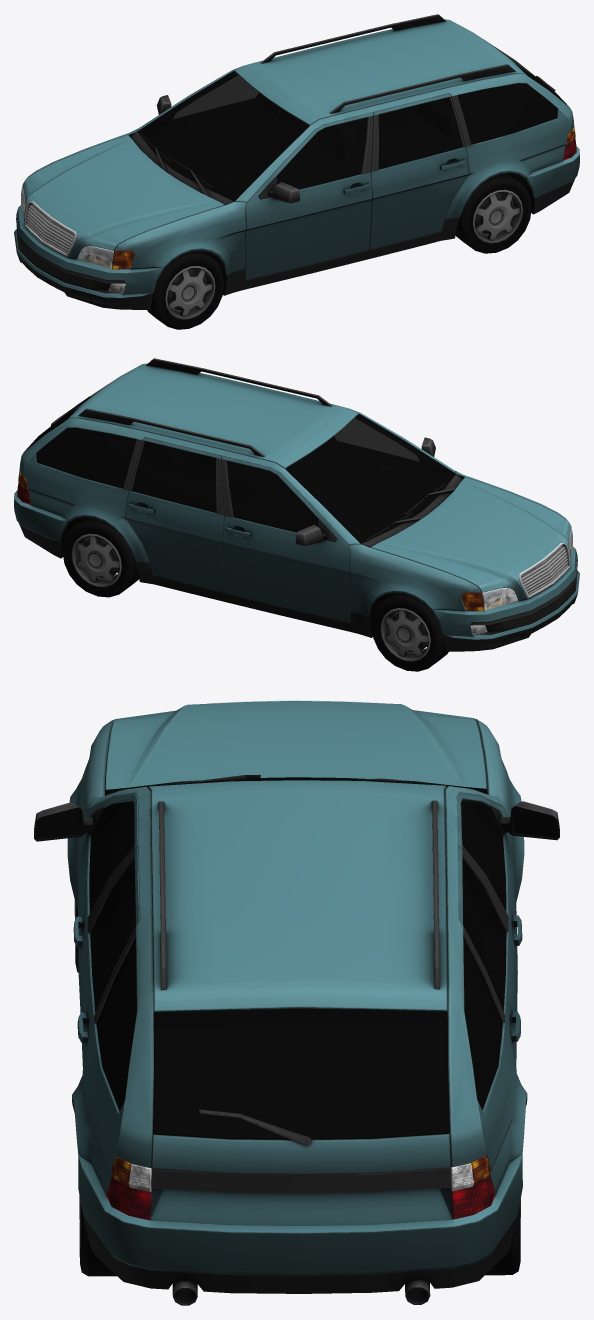
Rendered from limo.glb.
3 renders of one model, top to bottom at view 1: azimuth 30°, elevation 25°; view 2: azimuth 150°, elevation 25°; view 3: azimuth 270°, elevation 25°, orthographic. The views are drawn at different scales.
Parts seen in each view (by area): view 1: Wagon Body, Wheel_A001_Wheel_0.001, Wheel_A_Wheel_0.001; view 2: Wagon Body, Wheel_A003_Wheel_0.001, Wheel_A002_Wheel_0.001; view 3: Wagon Body, Wheel_A001_Wheel_0.001, Wheel_A003_Wheel_0.001.
Boxes of the visible parts, bbox=[...] form: Wagon Body: bbox=[14, 14, 579, 309]; Wheel_A001_Wheel_0.001: bbox=[455, 173, 531, 253]; Wheel_A_Wheel_0.001: bbox=[147, 250, 224, 329]; Wagon Body: bbox=[14, 358, 579, 651]; Wheel_A003_Wheel_0.001: bbox=[62, 517, 139, 597]; Wheel_A002_Wheel_0.001: bbox=[371, 592, 448, 671]; Wagon Body: bbox=[34, 700, 559, 1305]; Wheel_A001_Wheel_0.001: bbox=[79, 1195, 116, 1276]; Wheel_A003_Wheel_0.001: bbox=[485, 1199, 520, 1275].
Bounding box in the file's own units: 5.12 × 1.61 × 2.28.
Materials: 4 (3 with a texture image).
